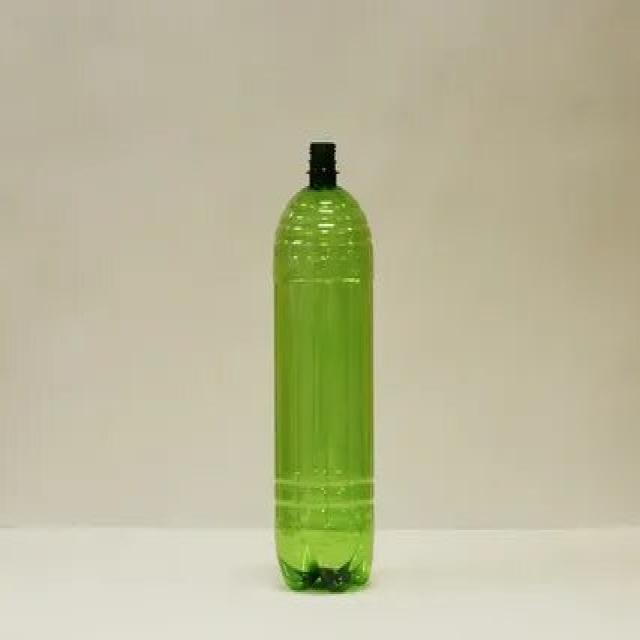green: (272, 144, 373, 588)
